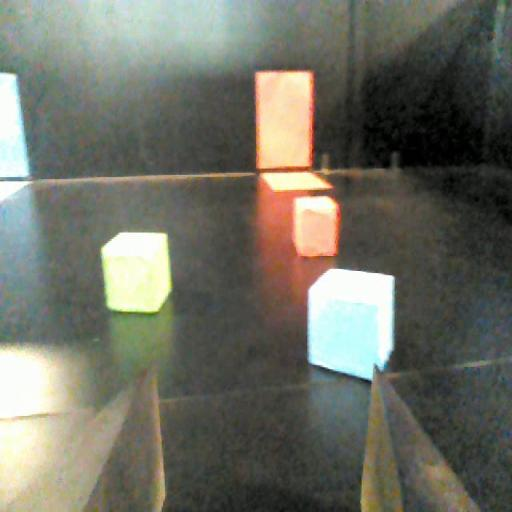cube: (307, 262, 398, 380), (97, 226, 174, 320), (291, 194, 342, 261)
